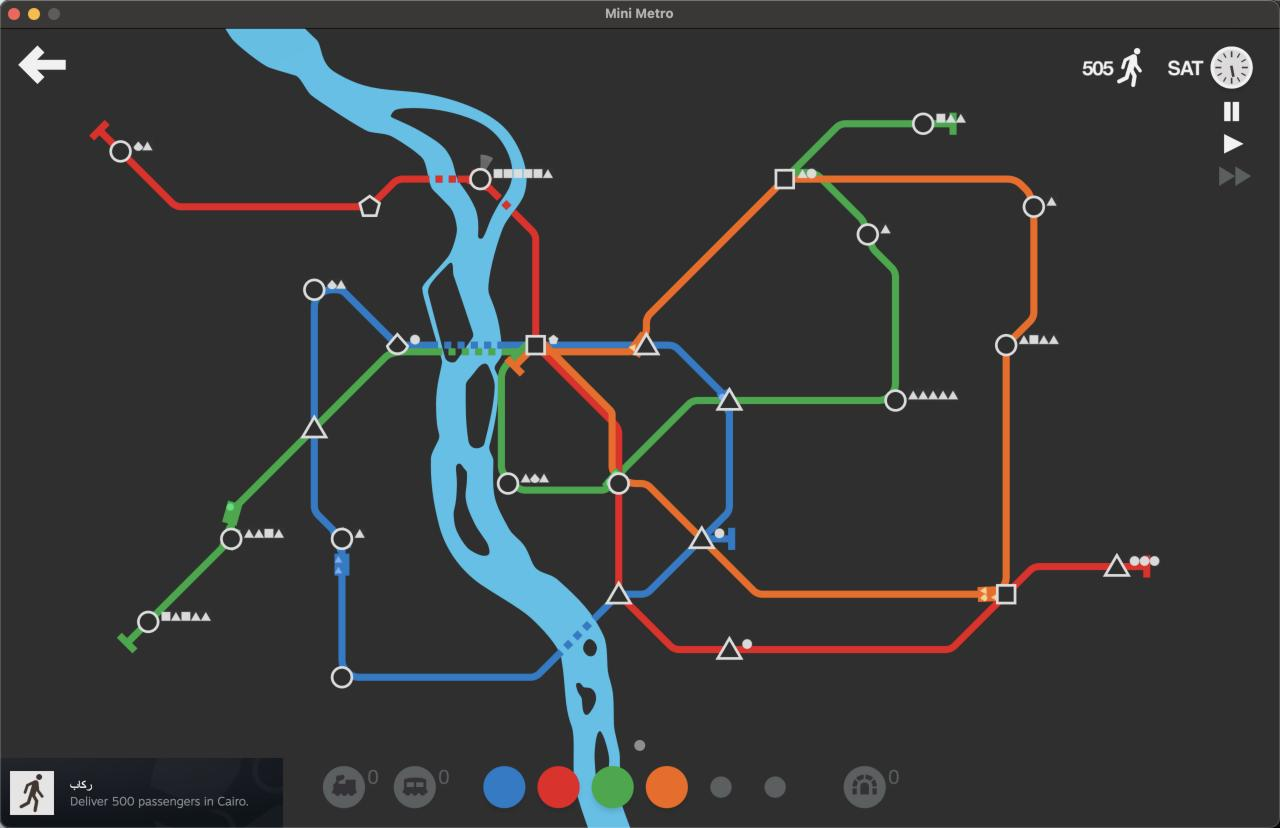CIRCLE: (606, 471, 631, 495), (496, 471, 520, 495), (1022, 195, 1046, 219), (994, 334, 1018, 358), (883, 389, 907, 413), (137, 609, 160, 634), (109, 139, 132, 163), (330, 665, 353, 689), (303, 278, 326, 302), (330, 527, 353, 551), (856, 222, 879, 246), (912, 111, 935, 135), (220, 527, 243, 550), (469, 168, 492, 190)
PENTAGON: (359, 195, 381, 218)
SQUARE: (525, 333, 547, 355), (774, 167, 795, 190), (996, 583, 1017, 605)
TRIANGLE: (715, 635, 745, 661), (687, 524, 716, 550), (1103, 552, 1131, 578), (715, 386, 743, 411), (605, 581, 633, 606), (632, 332, 661, 356), (301, 415, 328, 439)
WEDGE: (385, 332, 408, 355)
